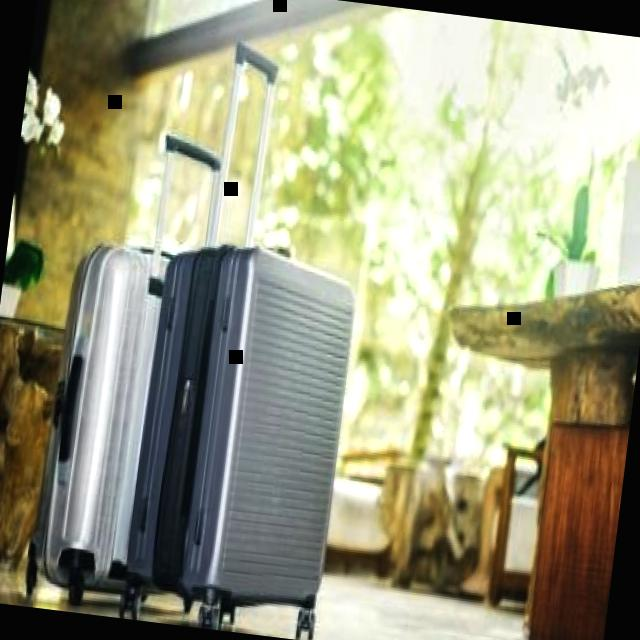luggage: (114, 225, 369, 632), (25, 226, 196, 612)
